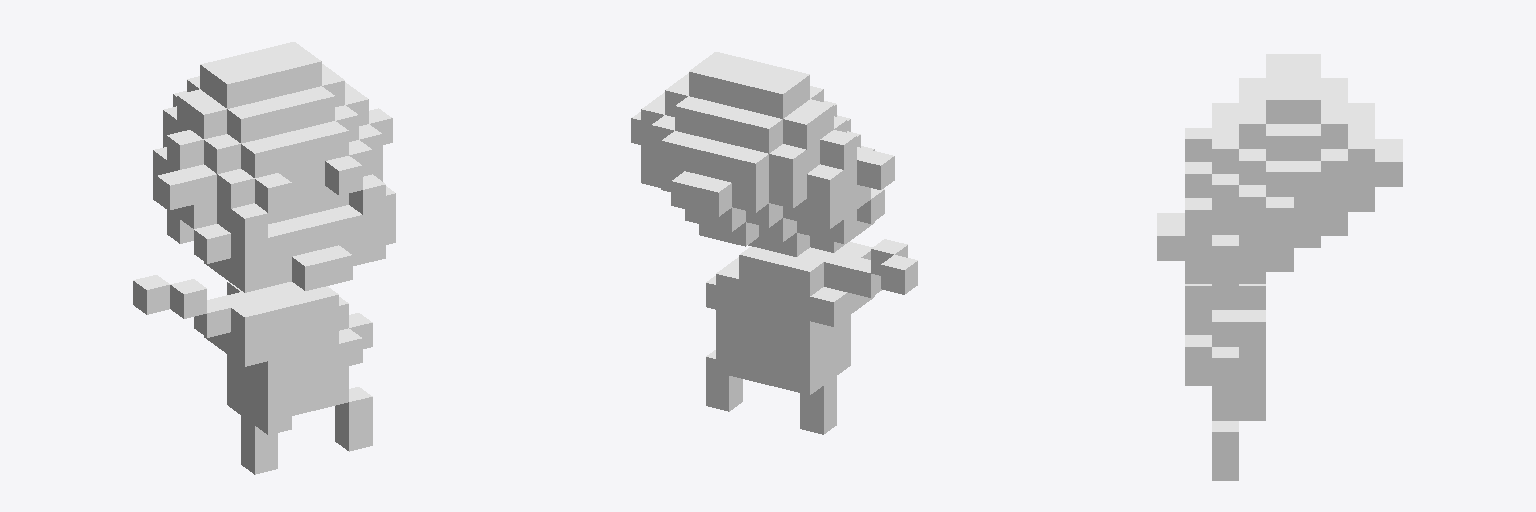
Rendered from 180Jump2.obj.
3 views of the same model, side by side, from view 1: azimuth 30°, elevation 25°; view 2: azimuth 150°, elevation 25°; view 3: azimuth 270°, elevation 25° (orthographic).
Parts seen in each view (by area): view 1: 180Jump2; view 2: 180Jump2; view 3: 180Jump2.
Part boxes in pixels (left/top/right/bottom): 180Jump2: left=133, top=42, right=395, bottom=474; 180Jump2: left=631, top=52, right=917, bottom=434; 180Jump2: left=1157, top=54, right=1402, bottom=480.
Bounding box in the file's own units: 11 × 15 × 9.